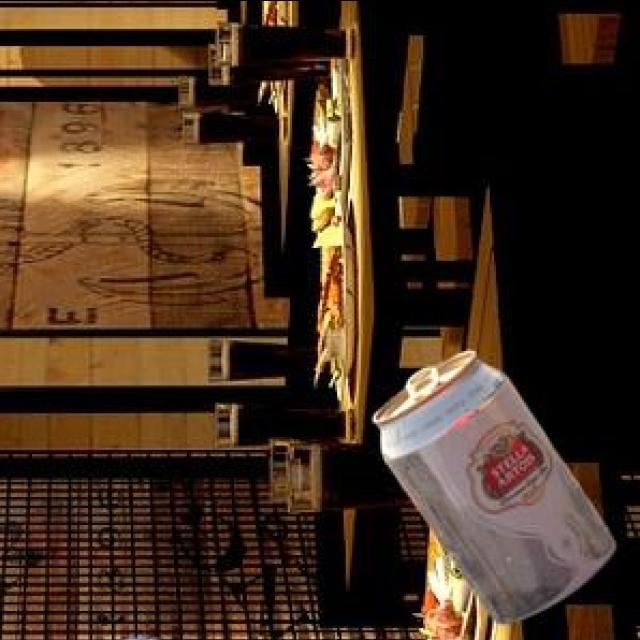logam: (370, 353, 613, 626)
